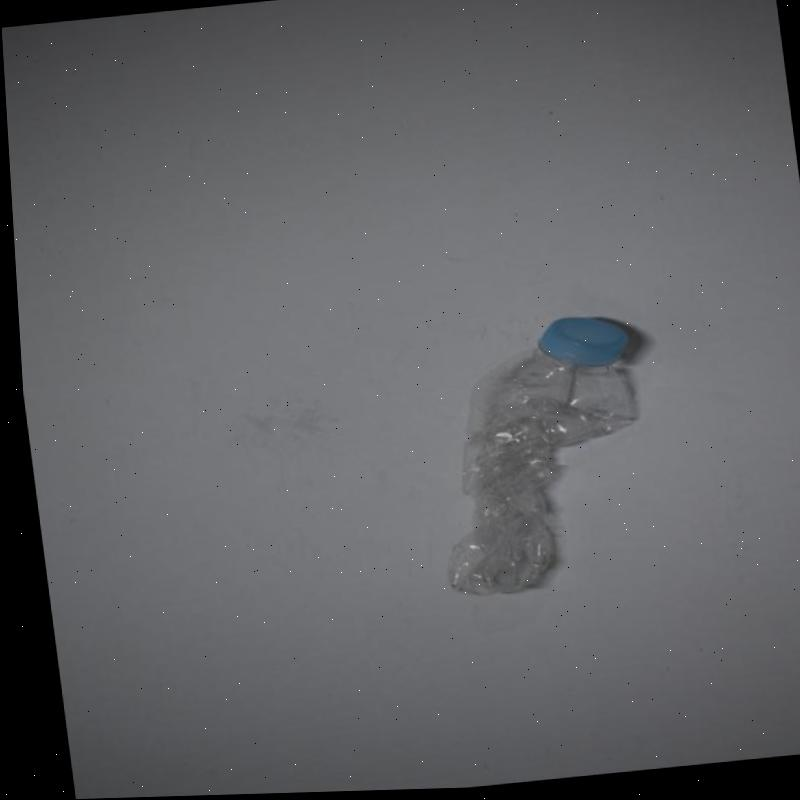botella: (404, 312, 656, 603)
